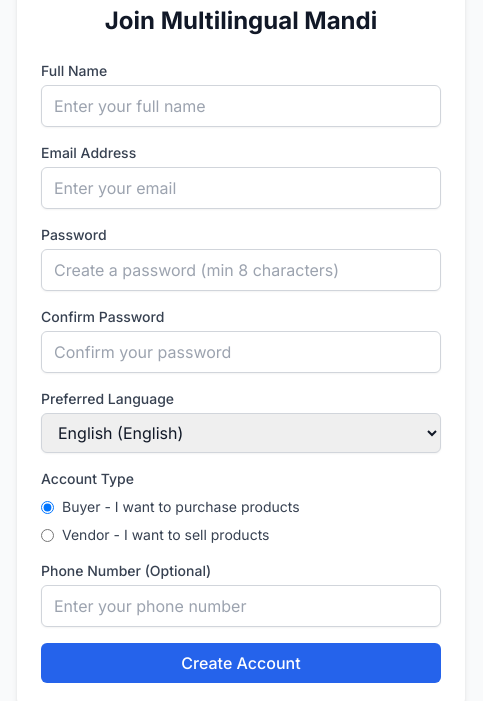
Test: RegisterForm Component › should show validation error for invalid phone number
This screenshot has width=483, height=701.
Step 1. Type "123" into the field labelled "Phone Number (Optional)" → {"x": 241, "y": 606}, box left=41, top=585, right=441, bottom=627
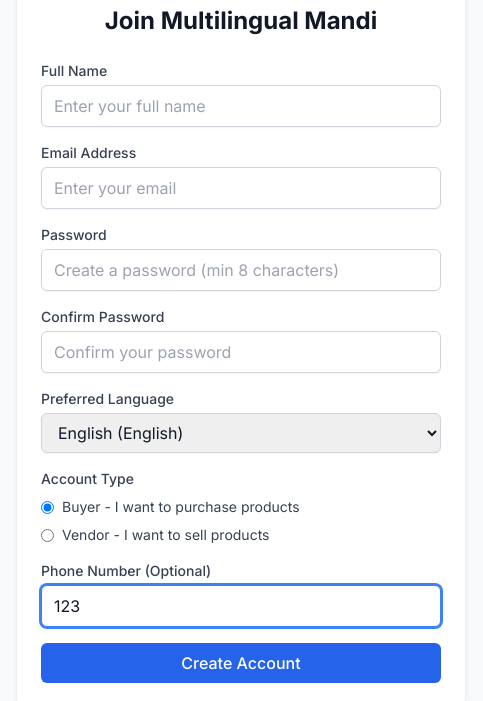
Step 2. Click the button "Create Account" → {"x": 241, "y": 663}, box left=41, top=643, right=441, bottom=683
(page scrolled)
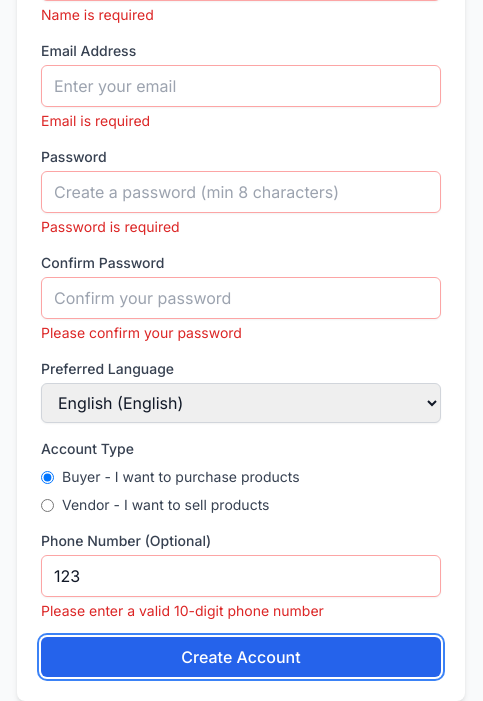
Result: the text "Please enter a valid 10-digit phone number" is shown at left=41, top=602, right=324, bottom=619
